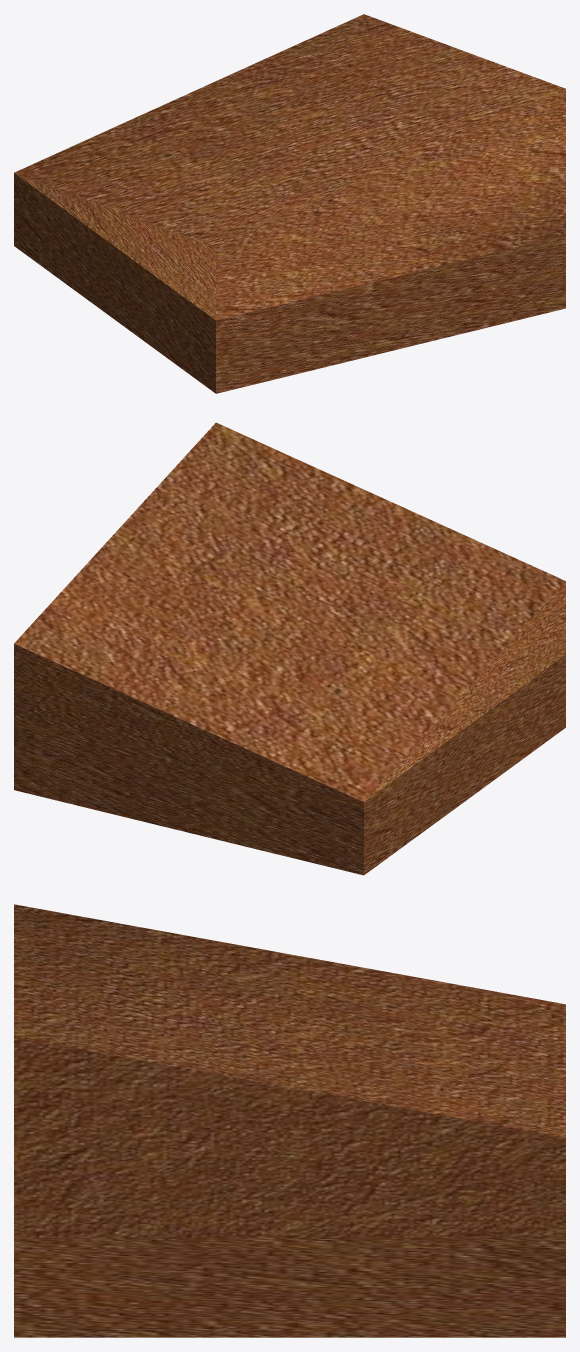
The model's file is Map0121.fbx.
3 renders of one model, top to bottom at view 1: azimuth 30°, elevation 25°; view 2: azimuth 150°, elevation 25°; view 3: azimuth 270°, elevation 25°, orthographic. The views are drawn at different scales.
Parts seen in each view (by area): view 1: Map0121, Map0000; view 2: Map0121, Map0000; view 3: Map0121, Map0000.
Boxes of the visible parts, x1,y1,x2,y2 form: Map0121: (14, 14, 565, 320); Map0000: (14, 173, 565, 393); Map0121: (14, 422, 565, 801); Map0000: (14, 654, 565, 875); Map0121: (14, 904, 565, 1237); Map0000: (14, 1237, 565, 1337).
Size of the model in its own units: 200 by 120 by 200.
2 materials, 2 textured.
